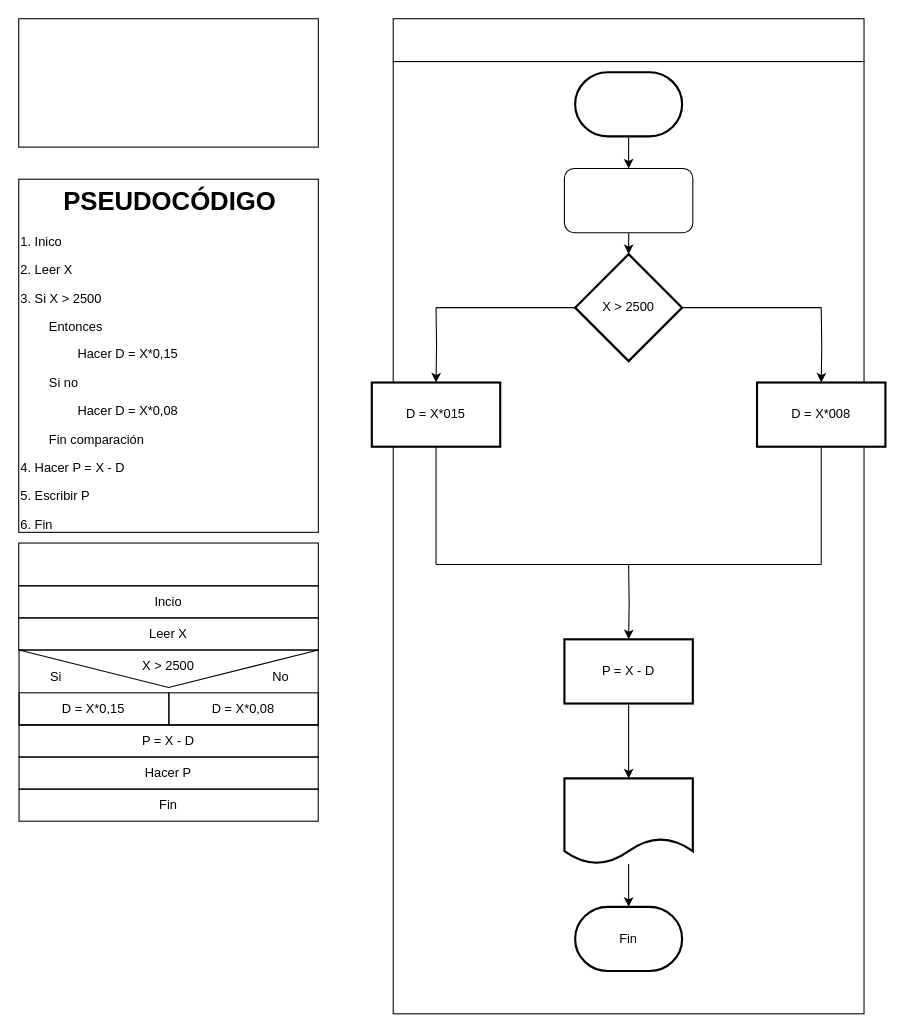
The diagram is 905 pixels wide and 1033 high, and some of its shapes have lost their labels. The centre of each missing label's shape, as x and y in pixels:
"DIAGRAMA DE FLUJO" goes at point (628, 40).
"DIAGRAMA N/S ." goes at point (168, 564).
"Imprimir P" goes at point (628, 821).
"Inicio" goes at point (628, 104).
"VARIABLES X Costo de trajes String P Precio final Entero positivo D Descuento lR" goes at point (168, 82).
